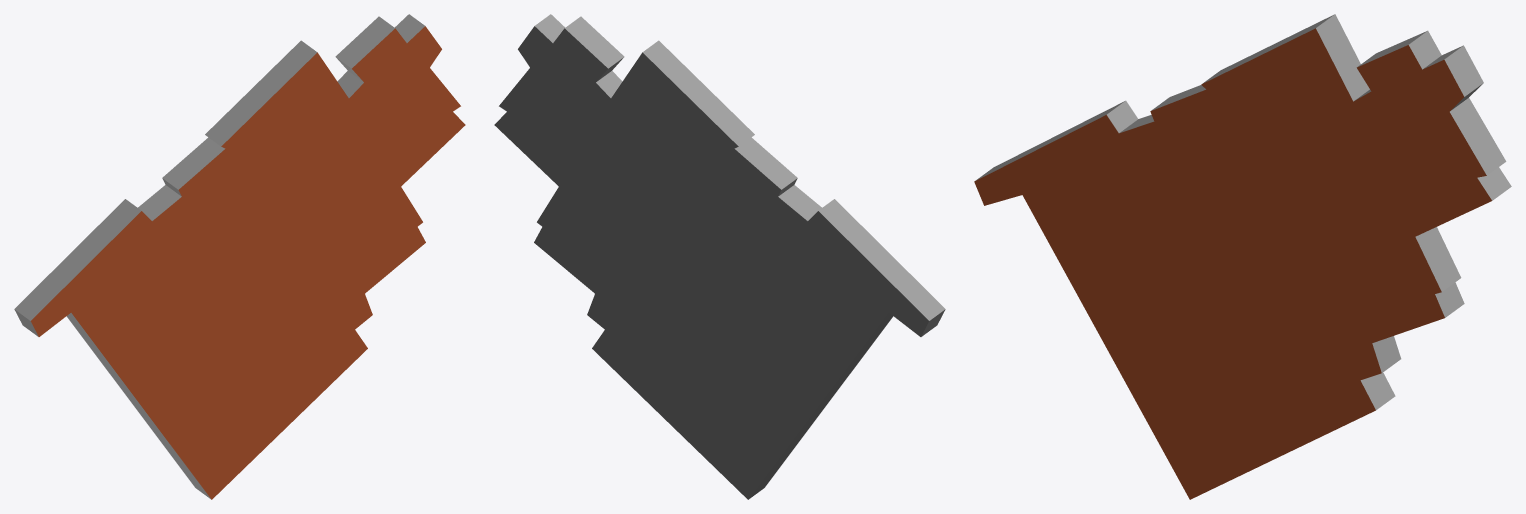
File: construction_2019_assumed_A_Casa_h6m.obj
3 renders of one model, left to right at view 1: azimuth 30°, elevation 25°; view 2: azimuth 150°, elevation 25°; view 3: azimuth 330°, elevation 25°, orthographic. The views are drawn at different scales.
Visible parts, largest first — view 1: construction_2019_assumed_A_Casa; view 2: construction_2019_assumed_A_Casa; view 3: construction_2019_assumed_A_Casa.
Boxes of the visible parts, x1,y1,x2,y2 form: construction_2019_assumed_A_Casa: [14, 14, 465, 499]; construction_2019_assumed_A_Casa: [494, 14, 945, 499]; construction_2019_assumed_A_Casa: [974, 14, 1511, 499].
Bounding box in the file's own units: 92.06 × 86.32 × 6.
